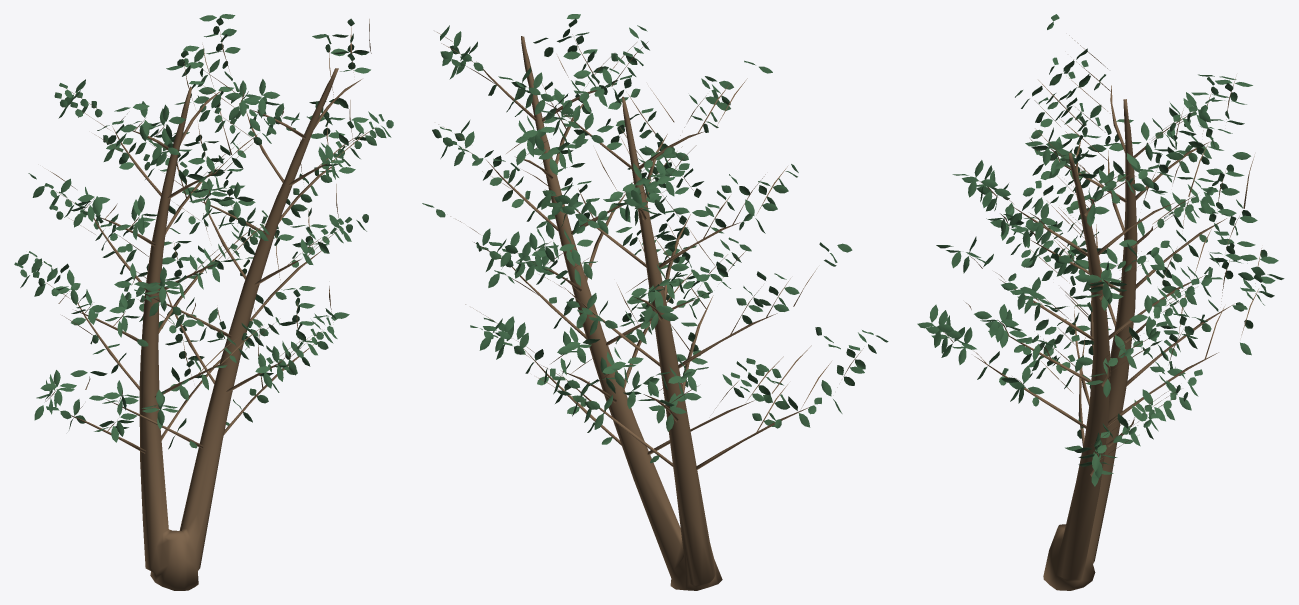
File: Myrte_2_Niveau1.fbx
3 views of the same model, side by side, from view 1: azimuth 30°, elevation 25°; view 2: azimuth 150°, elevation 25°; view 3: azimuth 270°, elevation 25° (orthographic). The views are drawn at different scales.
Parts seen in each view (by area): view 1: Myrte_2_Niveau1; view 2: Myrte_2_Niveau1; view 3: Myrte_2_Niveau1.
Part boxes in pixels (left/top/right/bottom): Myrte_2_Niveau1: left=14, top=14, right=393, bottom=590; Myrte_2_Niveau1: left=422, top=14, right=888, bottom=590; Myrte_2_Niveau1: left=917, top=14, right=1284, bottom=590.
Bounding box in the file's own units: 121 × 153 × 93.84.
